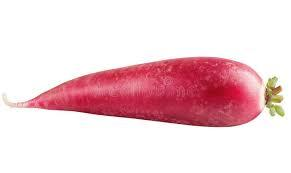non-mango: (3, 55, 281, 127)
